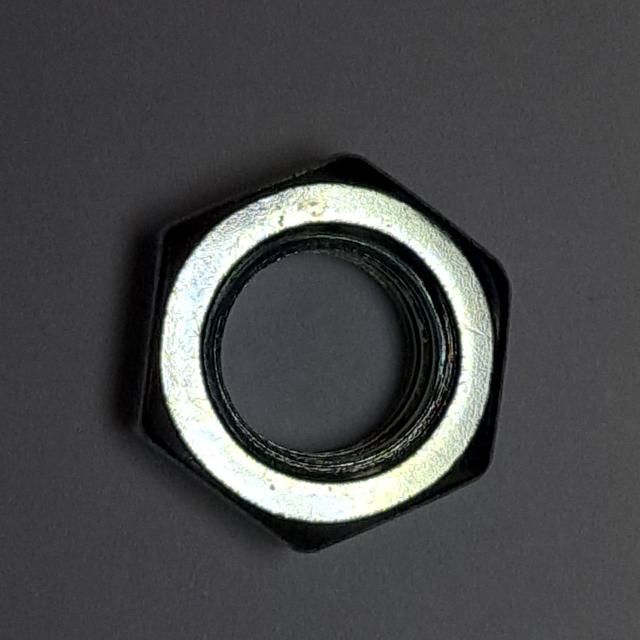Excellent: (104, 136, 525, 570)
